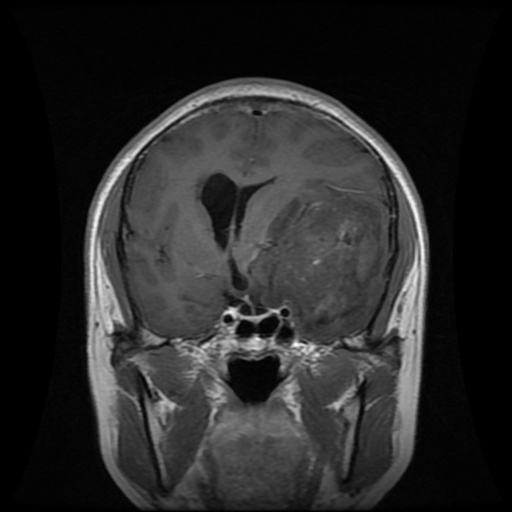glioma: (246, 178, 389, 342)
